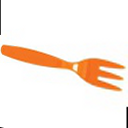fork: (2, 39, 128, 98)
